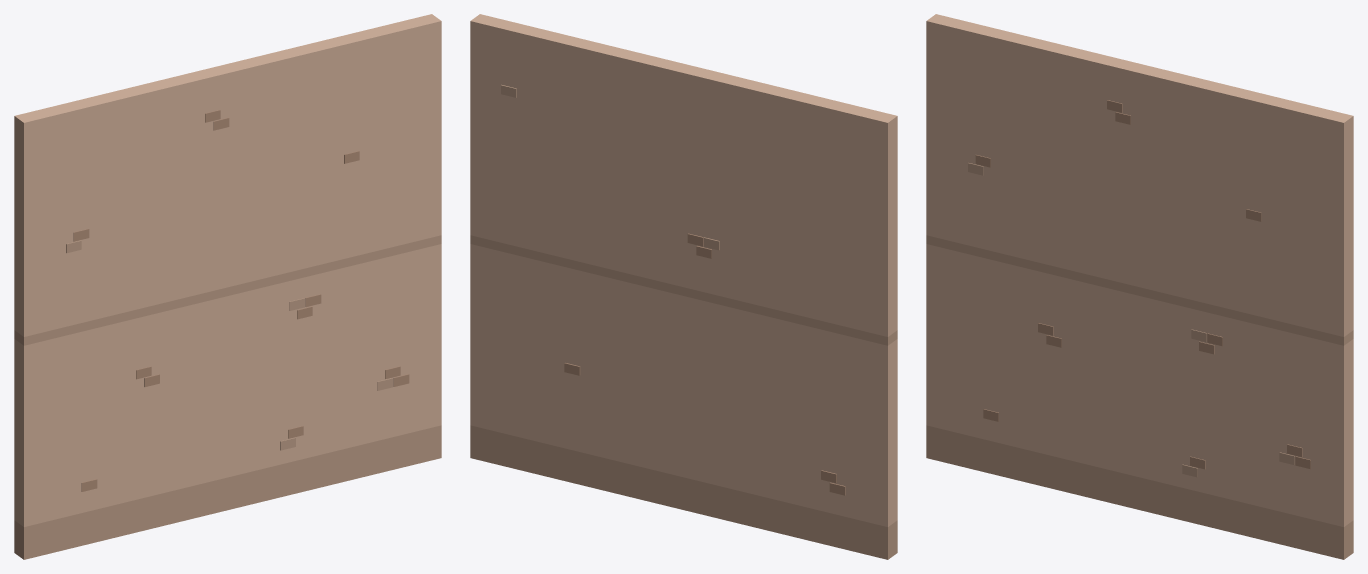
File: Wall_02.fbx
3 renders of one model, left to right at view 1: azimuth 30°, elevation 25°; view 2: azimuth 150°, elevation 25°; view 3: azimuth 330°, elevation 25°, orthographic.
Parts seen in each view (by area): view 1: Wall_02; view 2: Wall_02; view 3: Wall_02.
Part boxes in pixels (x1,y1,x2,y2): Wall_02: [14, 14, 441, 559]; Wall_02: [470, 14, 897, 559]; Wall_02: [926, 14, 1353, 559].
Bounding box in the file's own units: 1000 × 1000 × 44.49.
